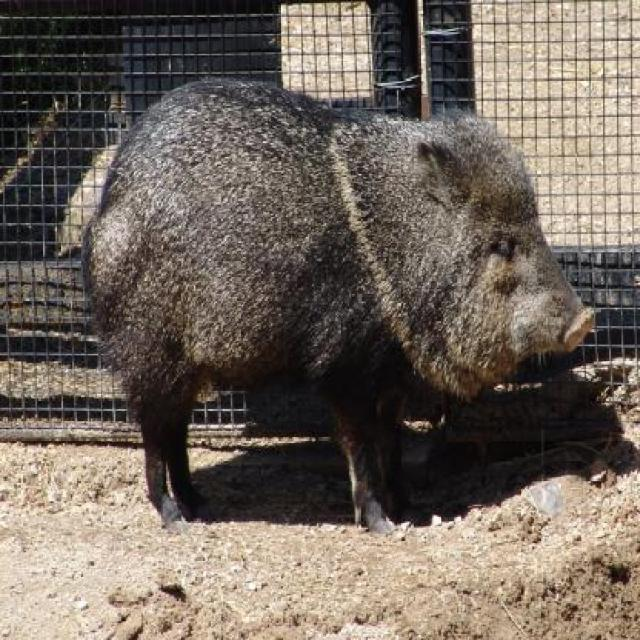pig: (78, 77, 594, 537)
